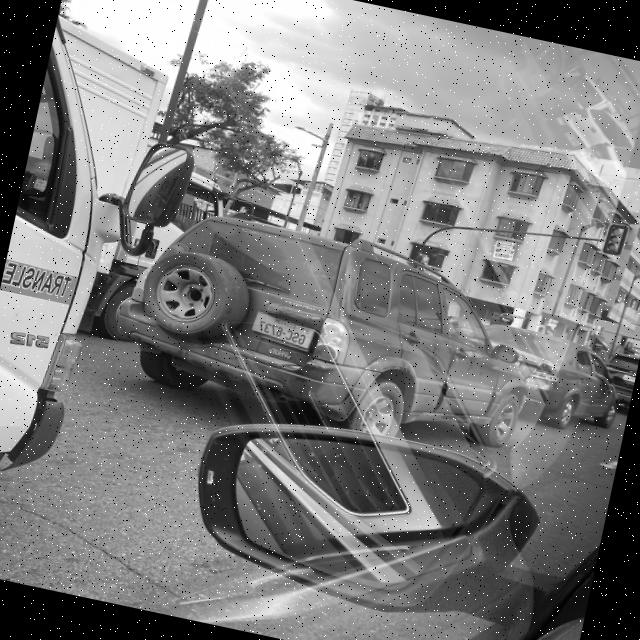Placa: (252, 312, 313, 349), (621, 375, 635, 382)
